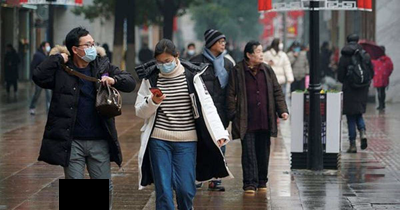with_mask: (80, 39, 97, 64), (156, 57, 176, 75), (188, 46, 196, 55), (293, 44, 301, 53), (278, 40, 284, 51), (45, 43, 51, 53)
without_mask: (253, 48, 264, 65), (215, 38, 227, 53)
